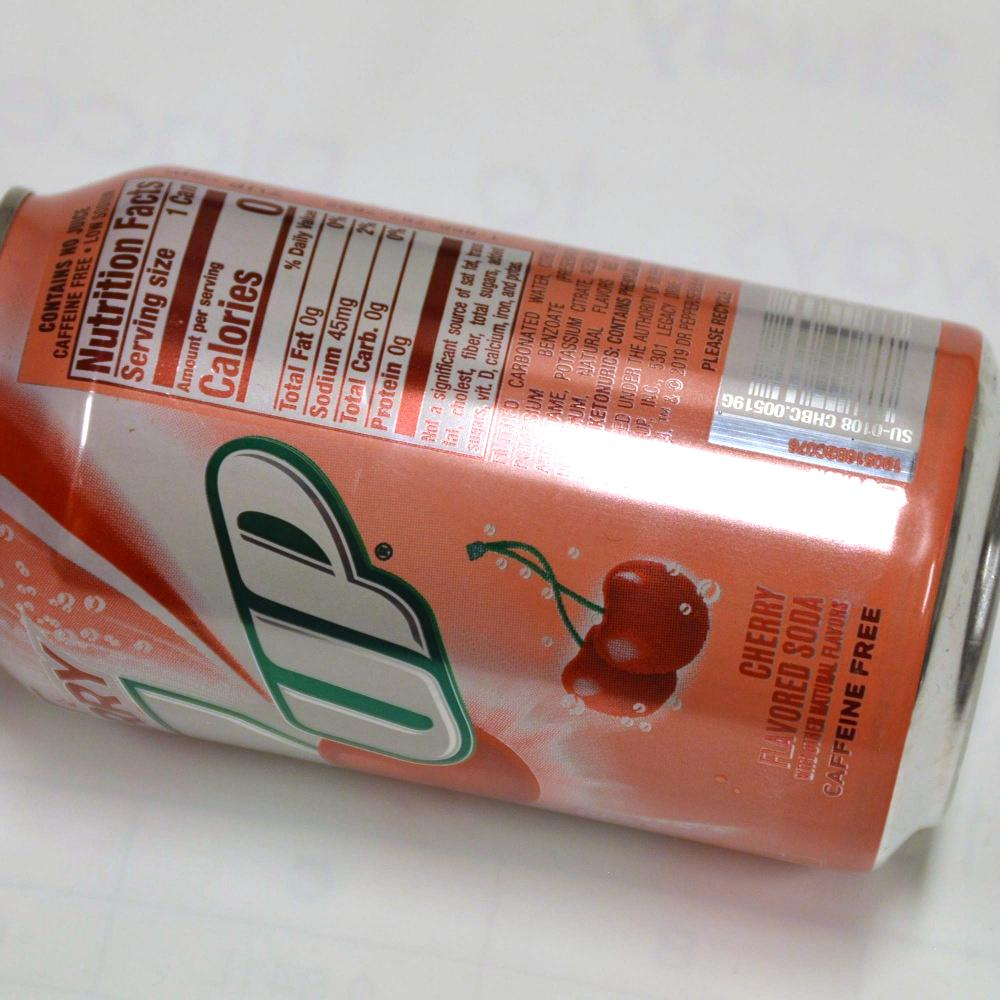Metal: (16, 127, 946, 917)
